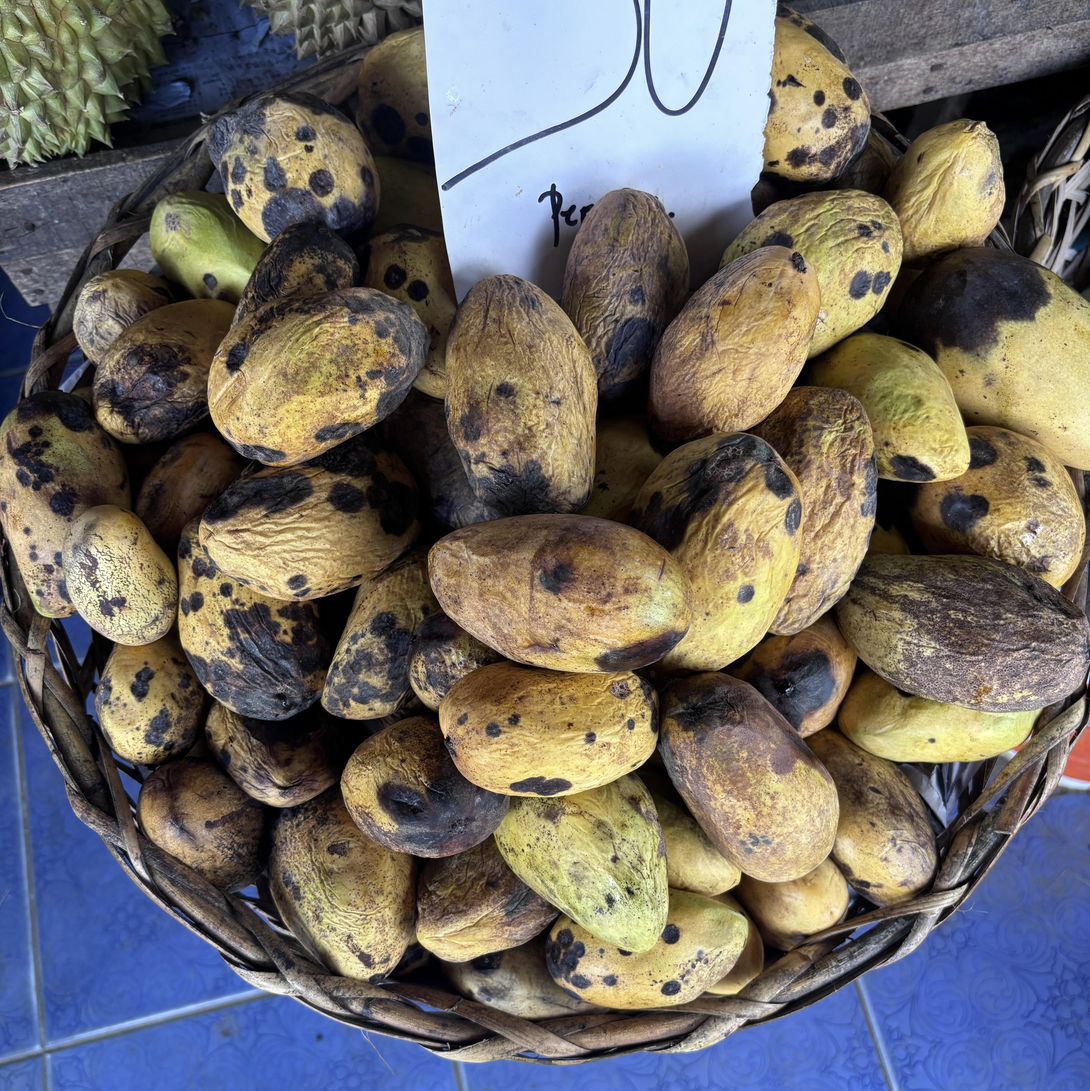mango: (428, 514, 693, 672), (208, 287, 428, 466), (659, 672, 838, 882), (649, 246, 820, 442), (62, 505, 178, 645)
occluded: (896, 247, 1090, 469), (630, 433, 802, 671), (834, 554, 1090, 712), (199, 432, 422, 600), (446, 275, 598, 515), (753, 386, 878, 635), (494, 775, 668, 953), (177, 519, 331, 720), (720, 190, 902, 357), (0, 391, 131, 617), (439, 662, 657, 797), (269, 785, 416, 983), (910, 425, 1085, 587), (562, 189, 689, 404), (208, 93, 380, 242), (546, 890, 748, 1009), (809, 333, 970, 482), (341, 715, 509, 857), (809, 728, 937, 907), (93, 300, 234, 444), (322, 547, 439, 720), (762, 5, 870, 184), (838, 670, 1039, 763), (417, 837, 558, 962), (884, 119, 1005, 264), (138, 758, 265, 891), (206, 703, 367, 807), (381, 391, 503, 528), (360, 225, 456, 399), (724, 614, 857, 736), (95, 629, 210, 765), (440, 933, 598, 1020), (134, 433, 245, 555), (232, 222, 359, 328), (149, 191, 265, 303), (357, 25, 434, 165), (409, 611, 503, 711), (74, 269, 175, 362), (652, 792, 740, 896), (737, 858, 848, 939), (581, 417, 664, 523), (916, 627, 917, 627)
